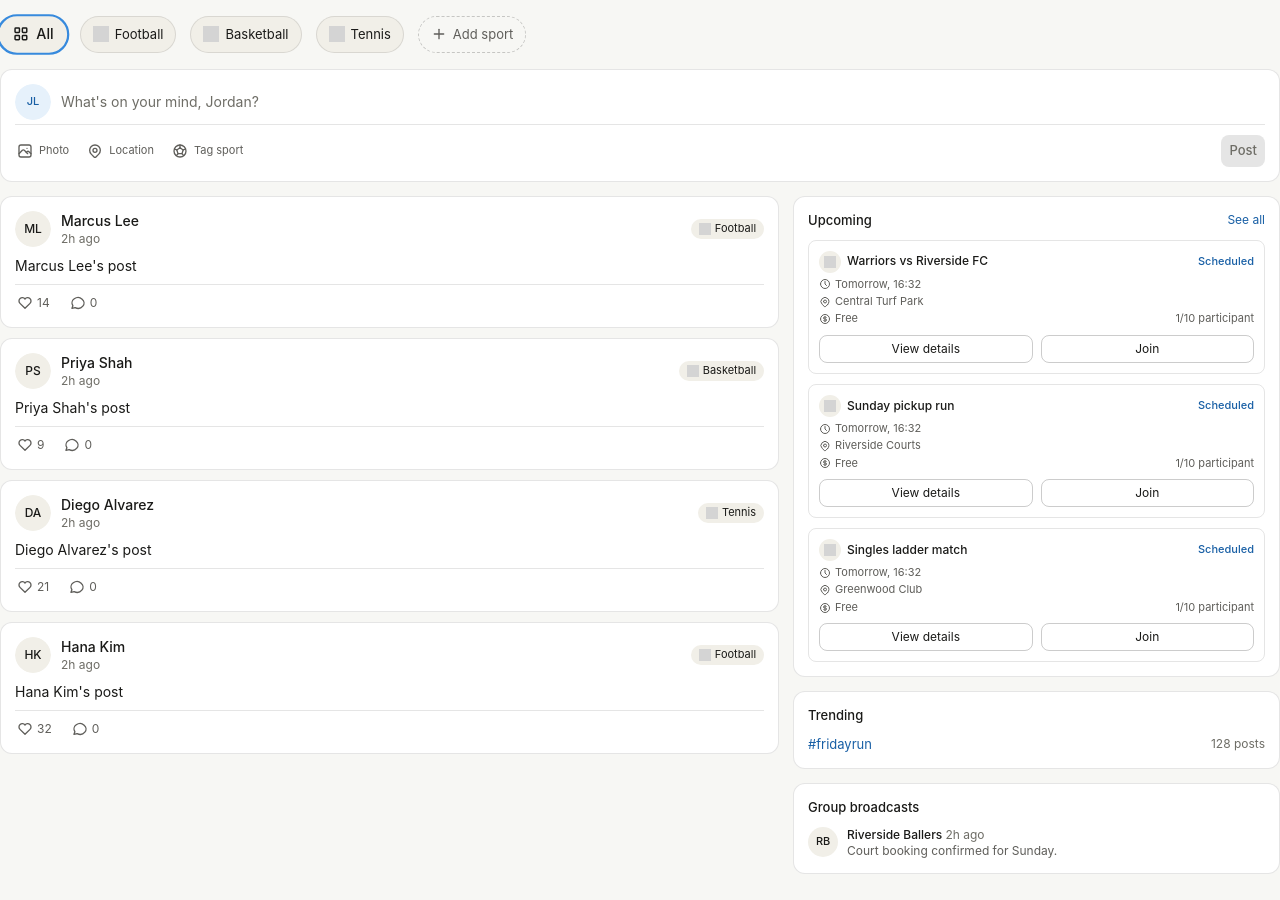
Test case: HomeFeedPage › clicking a hashtag opens a modal with the real filtered results (FEED-6)
Click the button "#fridayrun 128 posts".
click(840, 744)  # box x1=808 y1=735 x2=1265 y2=754
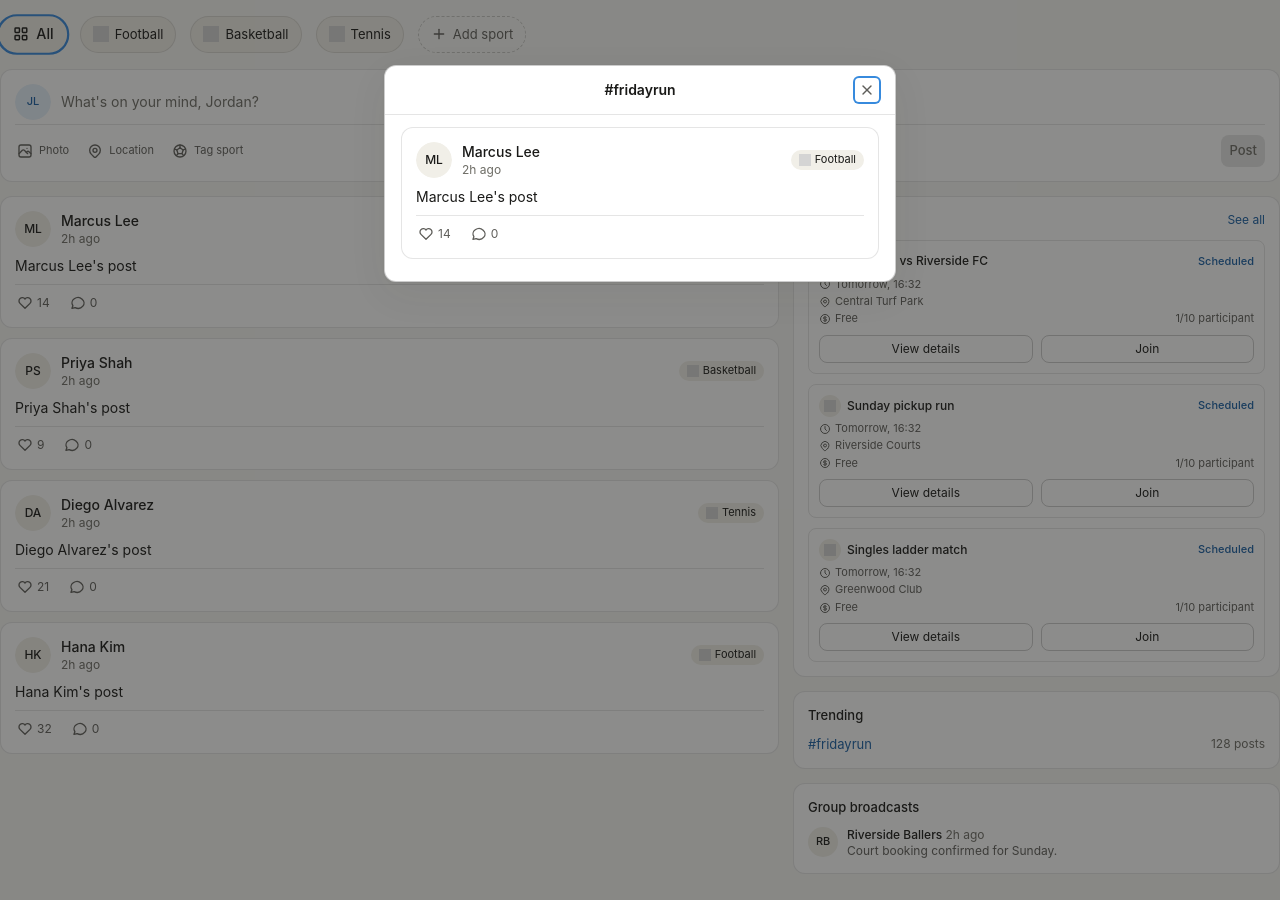
expect the heading "#fridayrun" is shown: met, box x1=604 y1=80 x2=676 y2=100
expect the text "Marcus Lee's post" is shown: met, box x1=416 y1=188 x2=538 y2=205
